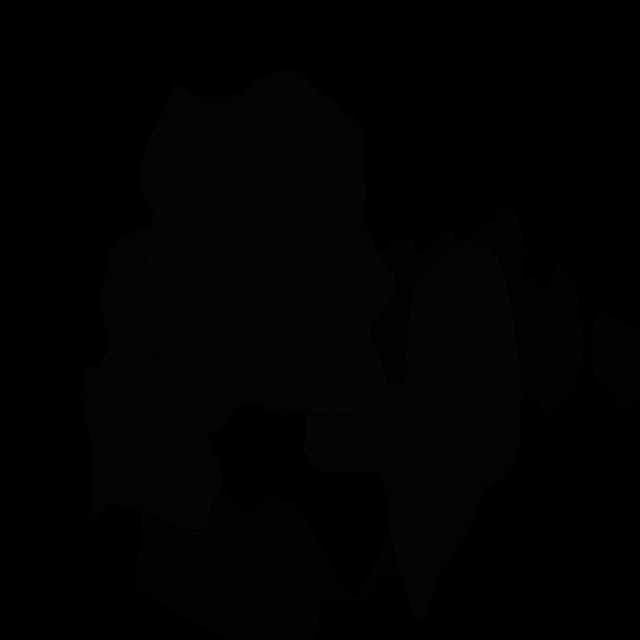cardboard: (134, 477, 402, 640), (467, 205, 584, 416), (369, 225, 456, 384), (591, 311, 640, 414)
soft_plastic: (140, 69, 396, 417), (304, 240, 522, 621), (81, 227, 241, 530)
